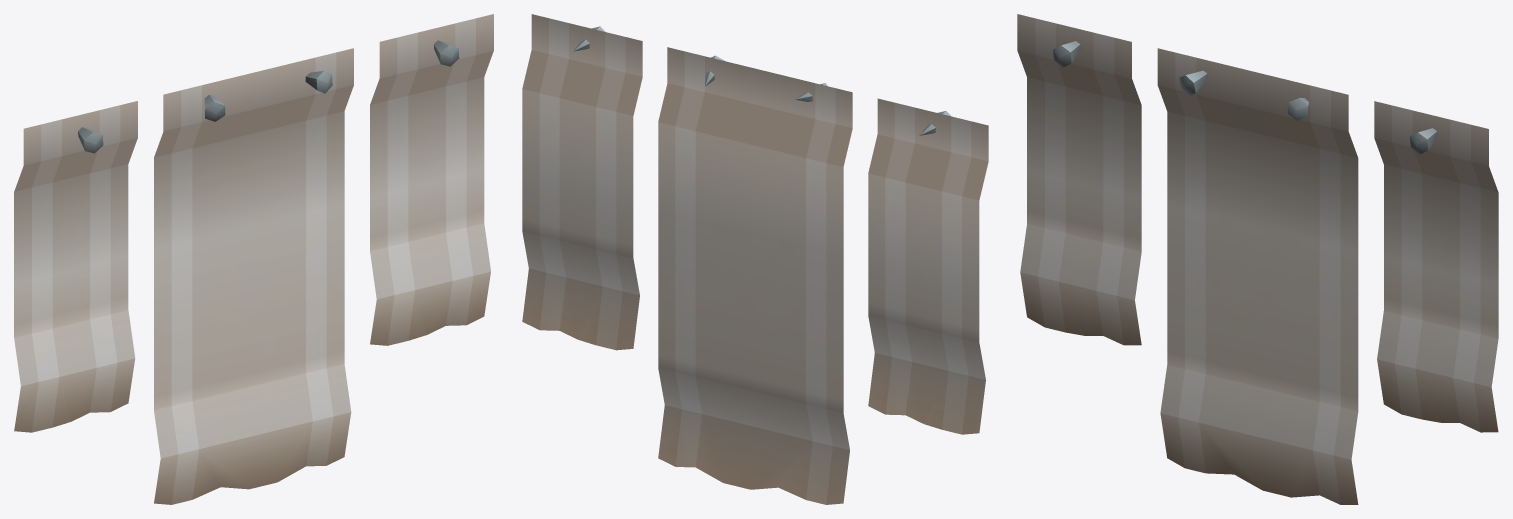
Rendered from banner-triple-white-gltf.glb.
3 views of the same model, side by side, from view 1: azimuth 30°, elevation 25°; view 2: azimuth 150°, elevation 25°; view 3: azimuth 330°, elevation 25° (orthographic). The views are drawn at different scales.
Parts seen in each view (by area): view 1: banner_triple_white; view 2: banner_triple_white; view 3: banner_triple_white.
Part boxes in pixels (x1,y1,x2,y2): banner_triple_white: (14, 14, 493, 504); banner_triple_white: (522, 14, 988, 504); banner_triple_white: (1017, 14, 1498, 504).
Size of the model in its own units: 3.7 by 3.2 by 0.3622.
Materials: 1 (1 with a texture image).
